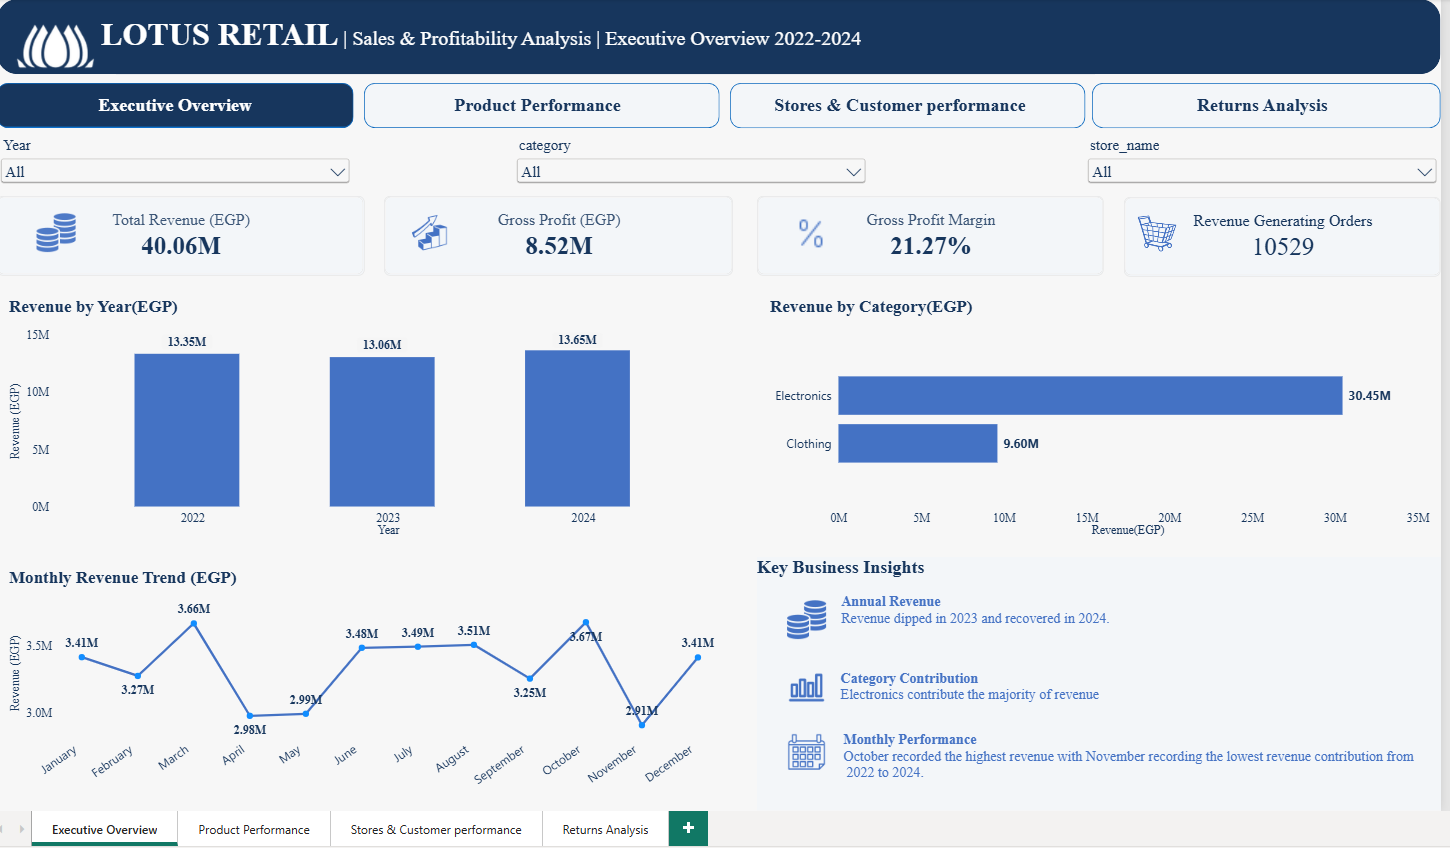

What the dashboard file says about the page in this screenshot:
{"tool":"powerbi","page":{"name":"Executive Overview","canvas":[1920,1080],"ordinal":0},"visuals":[{"type":"shape","box":[0,0,1920,100],"z":0},{"type":"textbox","box":[138.9,22.2,1359.7,77.8],"z":1000},{"type":"cardVisual","fields":{"Data":["Measures (2).Total Revenue (EGP)"]},"box":[0,261.4,488.6,105.7],"z":2000},{"type":"cardVisual","fields":{"Data":["Measures (2).Gross Profit"]},"box":[514.3,261.4,464.3,105.7],"z":3000},{"type":"cardVisual","fields":{"Data":["Measures (2).Gross Profit Margin"]},"box":[1011.4,261.4,461.4,105.7],"z":4000},{"type":"cardVisual","fields":{"Data":["Measures (2).Revenue Generating Orders"]},"box":[1498.6,262.9,421.4,105.7],"z":5000},{"type":"clusteredColumnChart","title":"Revenue by Year(EGP)","fields":{"Category":["dim_date.year"],"Y":["Measures (2).Total Revenue"]},"box":[0,382.1,978.1,349.3],"z":6000},{"type":"barChart","title":"Revenue by Category(EGP)","fields":{"Category":["Products.category"],"Y":["Measures (2).Total Revenue"]},"box":[1011.7,382.1,909.6,349.3],"z":7000},{"type":"image","box":[50,284.3,56,52],"z":8000},{"type":"image","box":[1514.3,284.3,56.4,52],"z":9000},{"type":"image","box":[548.6,284.3,55.7,51.4],"z":10000},{"type":"image","box":[1054.3,284.3,56,52],"z":11000},{"type":"lineChart","title":"Monthly Revenue Trend (EGP)","fields":{"Category":["dim_date.Date Hierarchy.full_date","dim_date.Date Hierarchy.year","dim_date.Date Hierarchy.month_name","dim_date.Date Hierarchy.quarter_name","dim_date.Date Hierarchy.day_number"],"Y":["Measures (2).Total Revenue (EGP)"]},"box":[0,742.3,978.1,338.4],"z":12000},{"type":"image","box":[0,0,156.9,126.4],"z":13000},{"type":"textbox","box":[1011,742.5,909.6,337],"z":14000},{"type":"image","box":[1042.5,800,67.1,52.1],"z":15000},{"type":"image","box":[1042.5,890.4,67.1,52],"z":16000},{"type":"image","box":[1042.5,976.7,67,52],"z":17000},{"type":"shape","box":[0,111.4,474.3,60],"z":18000},{"type":"shape","box":[488.6,111.4,472.9,60],"z":19000},{"type":"shape","box":[974.3,111.4,472.6,60.3],"z":21000},{"type":"shape","box":[1456.4,111.7,463.6,60],"z":23000},{"type":"slicer","fields":{"Values":["dim_date.Year"]},"box":[0,182.9,474.3,64.3],"z":25000},{"type":"slicer","fields":{"Values":["Products.category"]},"box":[685.7,182.9,474.3,64.3],"z":26000},{"type":"slicer","fields":{"Values":["Stores.store_name"]},"box":[1445.7,182.9,474.3,64.3],"z":27000},{"type":"pageNavigator","box":[0,111.6,1920,60.4],"z":28000}]}

Visuals, with their boxes on the page's 1920x1080 design canvas (x1, y1, x2, y2). These are canvas units, not pixel positions in the 1450x848 screenshot, which may show the page scaled, cropped or inside an application window:
shape: {"x1": 0, "y1": 0, "x2": 1920, "y2": 100}
textbox: {"x1": 139, "y1": 22, "x2": 1499, "y2": 100}
cardVisual - Measures (2).Total Revenue (EGP): {"x1": 0, "y1": 261, "x2": 489, "y2": 367}
cardVisual - Measures (2).Gross Profit: {"x1": 514, "y1": 261, "x2": 979, "y2": 367}
cardVisual - Measures (2).Gross Profit Margin: {"x1": 1011, "y1": 261, "x2": 1473, "y2": 367}
cardVisual - Measures (2).Revenue Generating Orders: {"x1": 1499, "y1": 263, "x2": 1920, "y2": 369}
"Revenue by Year(EGP)" clusteredColumnChart: {"x1": 0, "y1": 382, "x2": 978, "y2": 731}
"Revenue by Category(EGP)" barChart: {"x1": 1012, "y1": 382, "x2": 1921, "y2": 731}
image: {"x1": 50, "y1": 284, "x2": 106, "y2": 336}
image: {"x1": 1514, "y1": 284, "x2": 1571, "y2": 336}
image: {"x1": 549, "y1": 284, "x2": 604, "y2": 336}
image: {"x1": 1054, "y1": 284, "x2": 1110, "y2": 336}
"Monthly Revenue Trend (EGP)" lineChart: {"x1": 0, "y1": 742, "x2": 978, "y2": 1081}
image: {"x1": 0, "y1": 0, "x2": 157, "y2": 126}
textbox: {"x1": 1011, "y1": 742, "x2": 1921, "y2": 1080}
image: {"x1": 1042, "y1": 800, "x2": 1110, "y2": 852}
image: {"x1": 1042, "y1": 890, "x2": 1110, "y2": 942}
image: {"x1": 1042, "y1": 977, "x2": 1110, "y2": 1029}
shape: {"x1": 0, "y1": 111, "x2": 474, "y2": 171}
shape: {"x1": 489, "y1": 111, "x2": 962, "y2": 171}
shape: {"x1": 974, "y1": 111, "x2": 1447, "y2": 172}
shape: {"x1": 1456, "y1": 112, "x2": 1920, "y2": 172}
slicer - dim_date.Year: {"x1": 0, "y1": 183, "x2": 474, "y2": 247}
slicer - Products.category: {"x1": 686, "y1": 183, "x2": 1160, "y2": 247}
slicer - Stores.store_name: {"x1": 1446, "y1": 183, "x2": 1920, "y2": 247}
pageNavigator: {"x1": 0, "y1": 112, "x2": 1920, "y2": 172}
